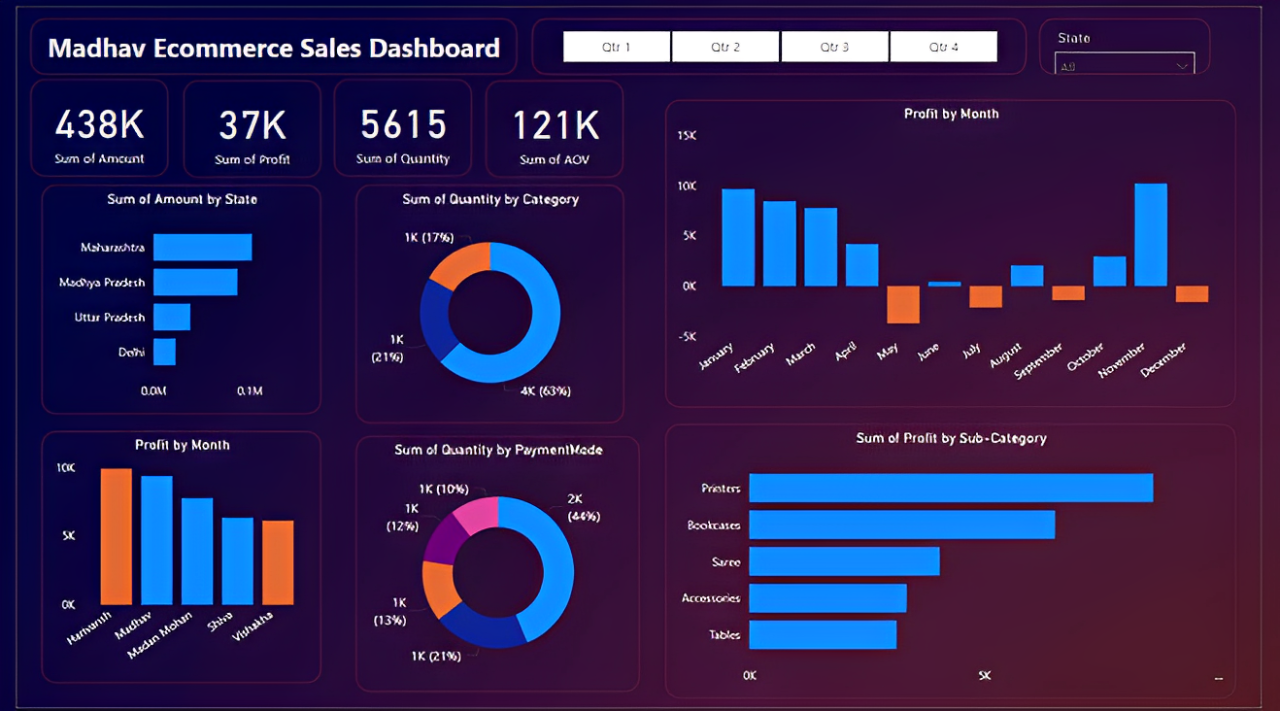

The page's visual inventory and layout, read from the dashboard file:
{"tool":"powerbi","page":{"name":"Page 1","canvas":[1280,720],"ordinal":0},"visuals":[{"type":"textbox","box":[13.7,11,500.9,57.6],"z":0},{"type":"columnChart","title":"Profit by Month","fields":{"Y":["Details.Profit"],"Category":["Orders.Order Date.Variation.Date Hierarchy.Month"]},"box":[666.9,94.7,587.3,317],"z":1000},{"type":"barChart","fields":{"Category":["Details.Sub-Category"],"Y":["Details.Profit"]},"box":[666.9,428.1,587.3,282.7],"z":2000},{"type":"donutChart","fields":{"Y":["Details.Quantity"],"Category":["Details.PaymentMode"]},"box":[348.5,441.9,292.3,263.5],"z":3000},{"type":"donutChart","fields":{"Y":["Details.Quantity"],"Category":["Details.Category"]},"box":[348.5,182.5,275.8,245.6],"z":4000},{"type":"card","fields":{"Values":["Details.Amount"]},"box":[13.7,74.1,141.3,100.2],"z":5000},{"type":"card","fields":{"Values":["Details.Quantity"]},"box":[326.6,74.1,141.3,100.2],"z":6000},{"type":"card","fields":{"Values":["Details.Profit"]},"box":[171.5,75.5,141.3,100.2],"z":7000},{"type":"card","fields":{"Values":["Details.AOV"]},"box":[483,75.5,141.3,100.2],"z":8000},{"type":"barChart","fields":{"Category":["Orders.State"],"Y":["Details.Amount"]},"box":[24.7,182.5,288.2,236],"z":9000},{"type":"columnChart","title":"Profit by Month","fields":{"Category":["Orders.CustomerName"],"Y":["Details.Amount"]},"box":[24.7,436.4,288.2,259.3],"z":10000},{"type":"slicer","fields":{"Values":["Orders.Order Date.Variation.Date Hierarchy.Quarter"]},"box":[529.7,11,509.1,57.6],"z":11000},{"type":"slicer","fields":{"Values":["Orders.State"]},"box":[1052.5,11,175.6,57.6],"z":12000}]}

Visuals, with their boxes in screenshot pixels (x1, y1, x2, y2), scaled from the page's 1280x720 canvas onto the 1280x711 screenshot:
textbox: locate(14, 11, 515, 68)
"Profit by Month" columnChart: locate(667, 94, 1254, 407)
barChart - Details.Sub-Category x Details.Profit: locate(667, 423, 1254, 702)
donutChart - Details.Quantity x Details.PaymentMode: locate(348, 436, 641, 697)
donutChart - Details.Quantity x Details.Category: locate(348, 180, 624, 423)
card - Details.Amount: locate(14, 73, 155, 172)
card - Details.Quantity: locate(327, 73, 468, 172)
card - Details.Profit: locate(172, 75, 313, 174)
card - Details.AOV: locate(483, 75, 624, 174)
barChart - Orders.State x Details.Amount: locate(25, 180, 313, 413)
"Profit by Month" columnChart: locate(25, 431, 313, 687)
slicer - Orders.Order Date.Variation.Date Hierarchy.Quarter: locate(530, 11, 1039, 68)
slicer - Orders.State: locate(1052, 11, 1228, 68)
